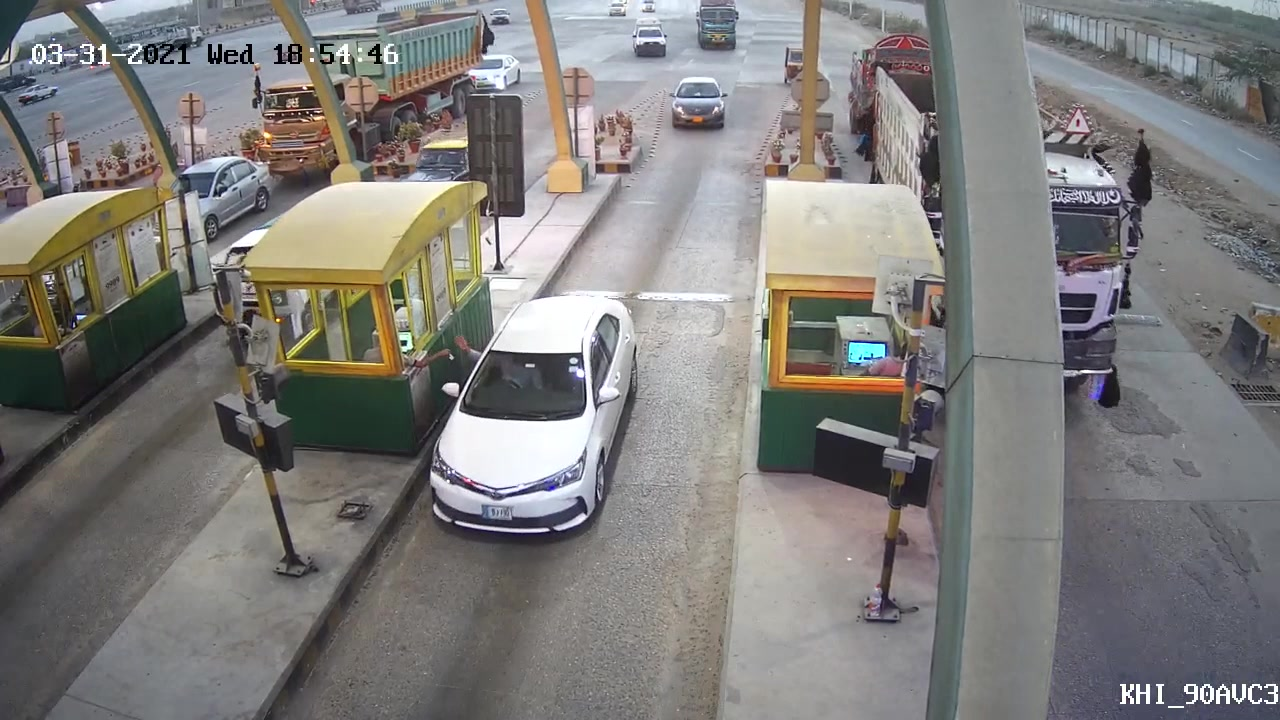F1: (420, 295, 642, 539)
